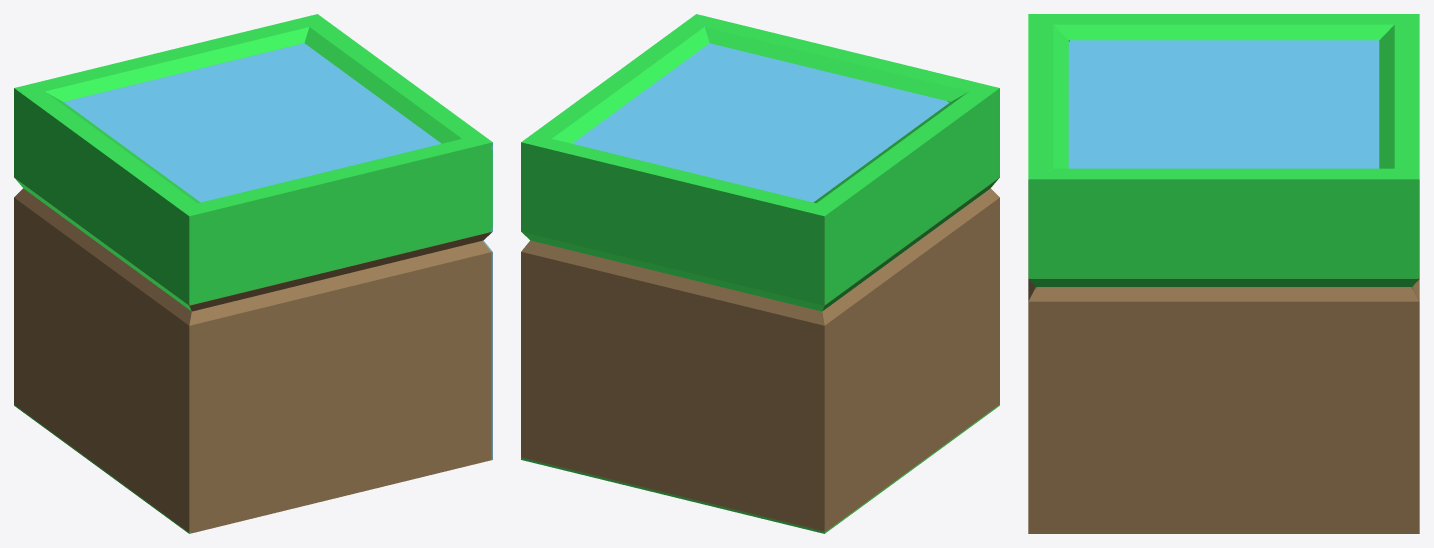
The model's file is Tile_Path_Start.fbx.
3 views of the same model, side by side, from view 1: azimuth 30°, elevation 25°; view 2: azimuth 150°, elevation 25°; view 3: azimuth 270°, elevation 25° (orthographic). The views are drawn at different scales.
Visible parts, largest first — view 1: Cube; view 2: Cube; view 3: Cube.
Boxes of the visible parts, x1,y1,x2,y2 form: Cube: (14, 14, 492, 533); Cube: (521, 14, 999, 533); Cube: (1028, 14, 1419, 533).
Bounding box in the file's own units: 200 × 200 × 200.
